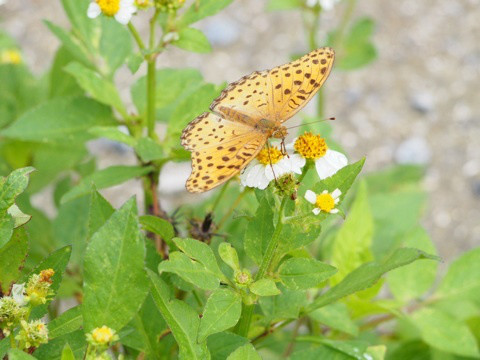Argyreus hyperbius: (177, 39, 341, 199)
butterfly: (179, 41, 343, 201)
